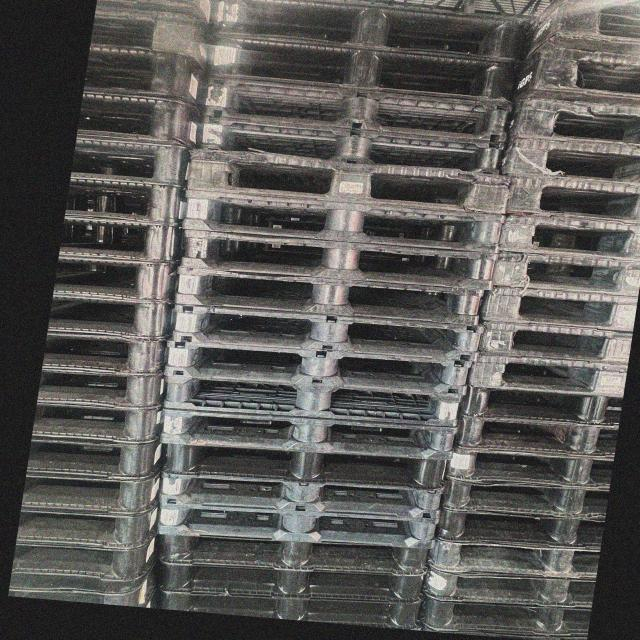igps: (156, 363, 474, 439), (155, 333, 478, 407), (150, 425, 460, 499), (161, 300, 492, 368), (150, 456, 455, 528), (150, 488, 448, 560), (176, 195, 514, 258), (182, 120, 521, 182), (192, 74, 518, 138), (179, 155, 517, 216), (152, 401, 468, 466), (196, 34, 516, 98), (208, 0, 523, 65), (167, 229, 506, 286), (169, 268, 500, 323), (150, 520, 436, 582), (153, 548, 434, 611), (146, 579, 431, 637), (422, 494, 611, 552), (442, 435, 619, 495), (472, 274, 640, 336), (62, 86, 208, 156), (478, 238, 640, 301), (464, 312, 637, 370), (508, 36, 640, 111), (430, 469, 616, 522), (502, 81, 640, 152), (460, 348, 634, 404), (412, 588, 598, 640), (448, 409, 625, 463), (496, 160, 640, 226), (457, 378, 626, 434), (492, 206, 640, 269), (418, 528, 604, 576), (486, 131, 640, 188), (84, 5, 214, 72), (76, 46, 212, 108), (416, 562, 601, 606), (0, 566, 169, 614), (50, 214, 192, 266), (26, 362, 170, 412), (57, 177, 192, 229), (47, 255, 183, 305), (65, 135, 193, 188), (40, 290, 178, 338), (32, 328, 170, 376), (8, 508, 164, 549), (23, 439, 167, 483), (11, 472, 167, 512), (5, 539, 165, 578), (28, 403, 168, 446), (516, 0, 640, 44), (75, 0, 206, 33)
